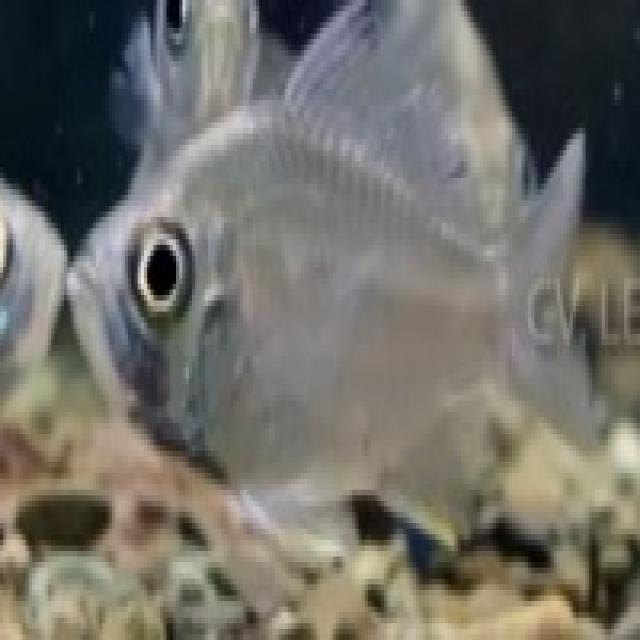Glass-Perchlet: (45, 0, 622, 567)
